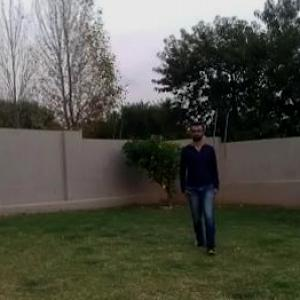follow: (186, 126, 218, 250)
